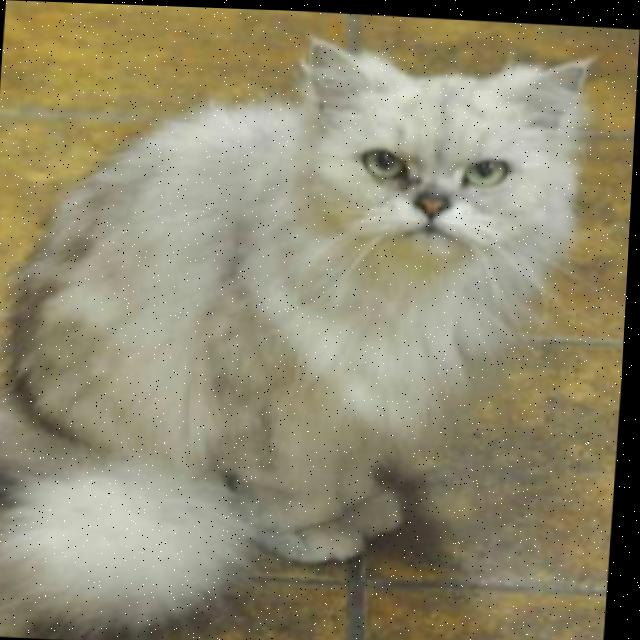Persian: (0, 19, 599, 640)
